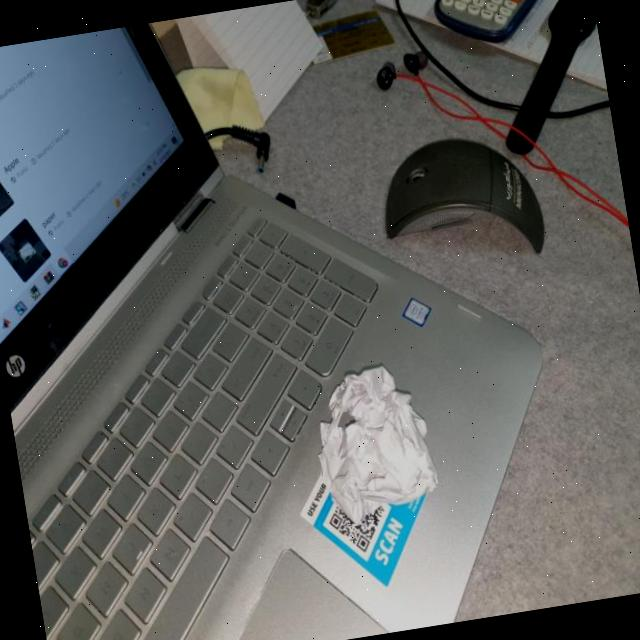trash: (288, 340, 453, 543)
